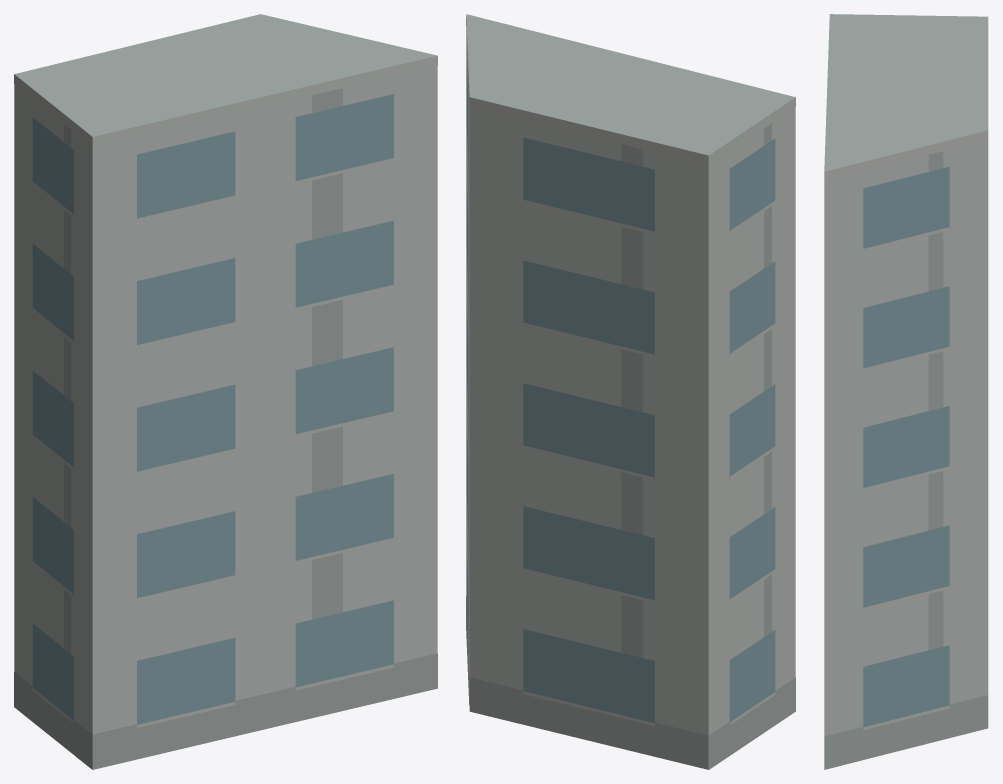
Rendered from survey-upis-32838137.glb.
3 renders of one model, left to right at view 1: azimuth 30°, elevation 25°; view 2: azimuth 150°, elevation 25°; view 3: azimuth 270°, elevation 25°, orthographic. The views are drawn at different scales.
Parts seen in each view (by area): view 1: survey-upis-32838137.tmp; view 2: survey-upis-32838137.tmp; view 3: survey-upis-32838137.tmp.
Part boxes in pixels (bbox=[...]): survey-upis-32838137.tmp: bbox=[14, 14, 437, 769]; survey-upis-32838137.tmp: bbox=[466, 14, 795, 769]; survey-upis-32838137.tmp: bbox=[824, 14, 988, 769].
Size of the model in its own units: 8.64 by 15.25 by 3.81.
